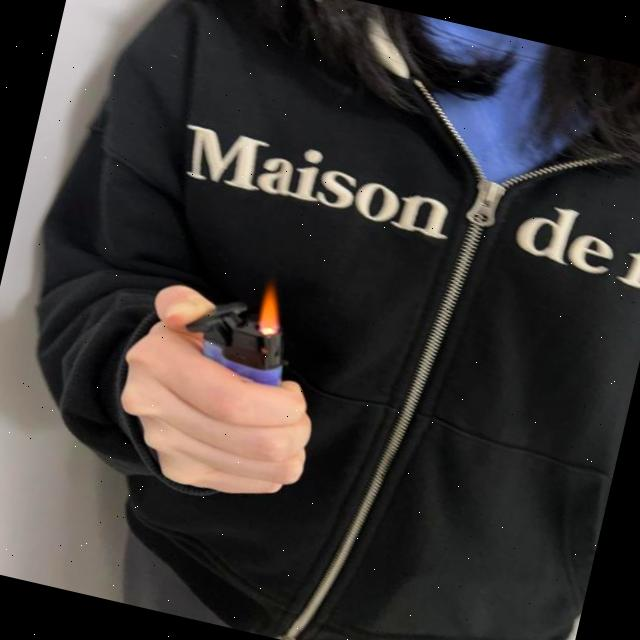fire: (253, 284, 290, 342)
